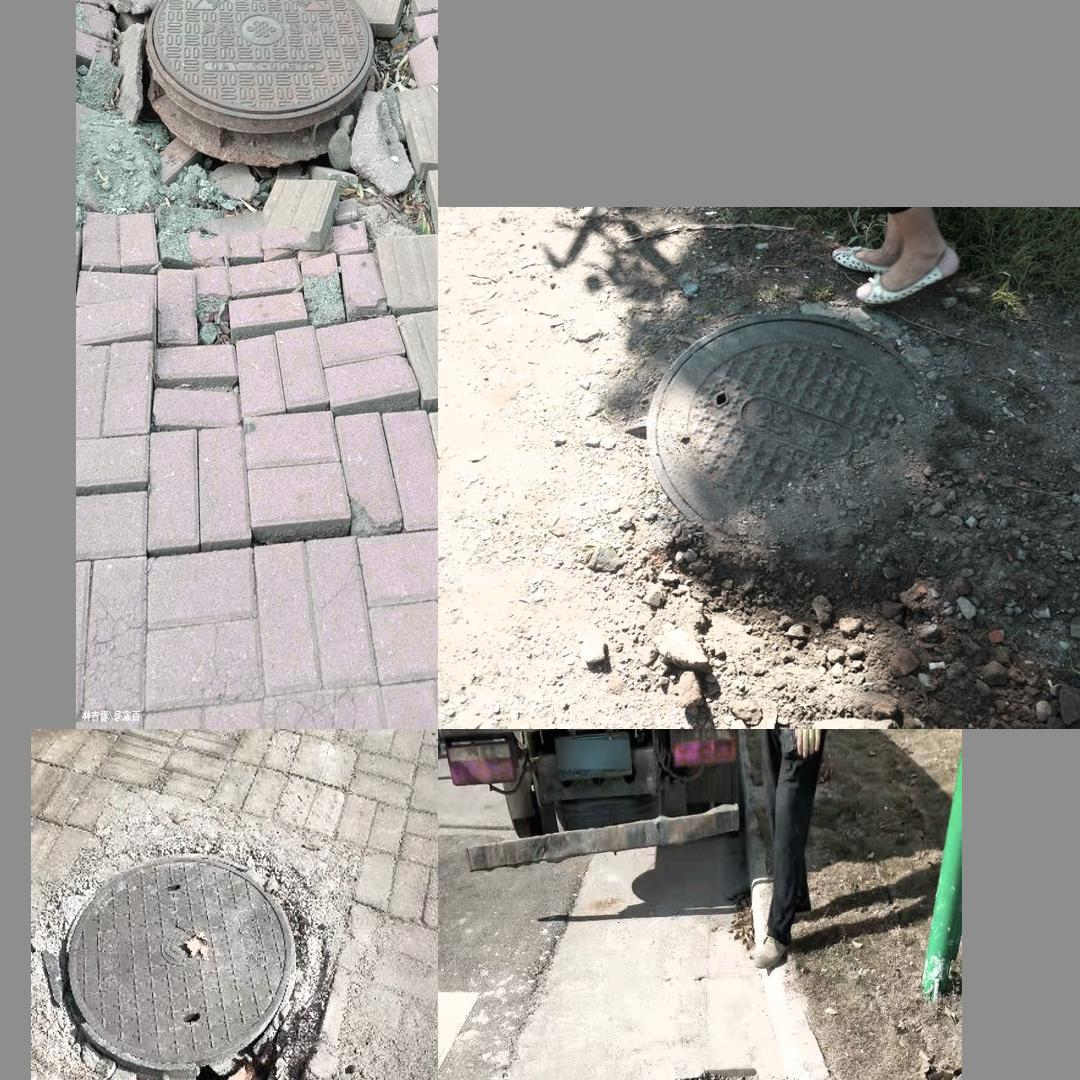circle: (80, 0, 430, 357), (573, 306, 1005, 592), (31, 839, 336, 1080)
